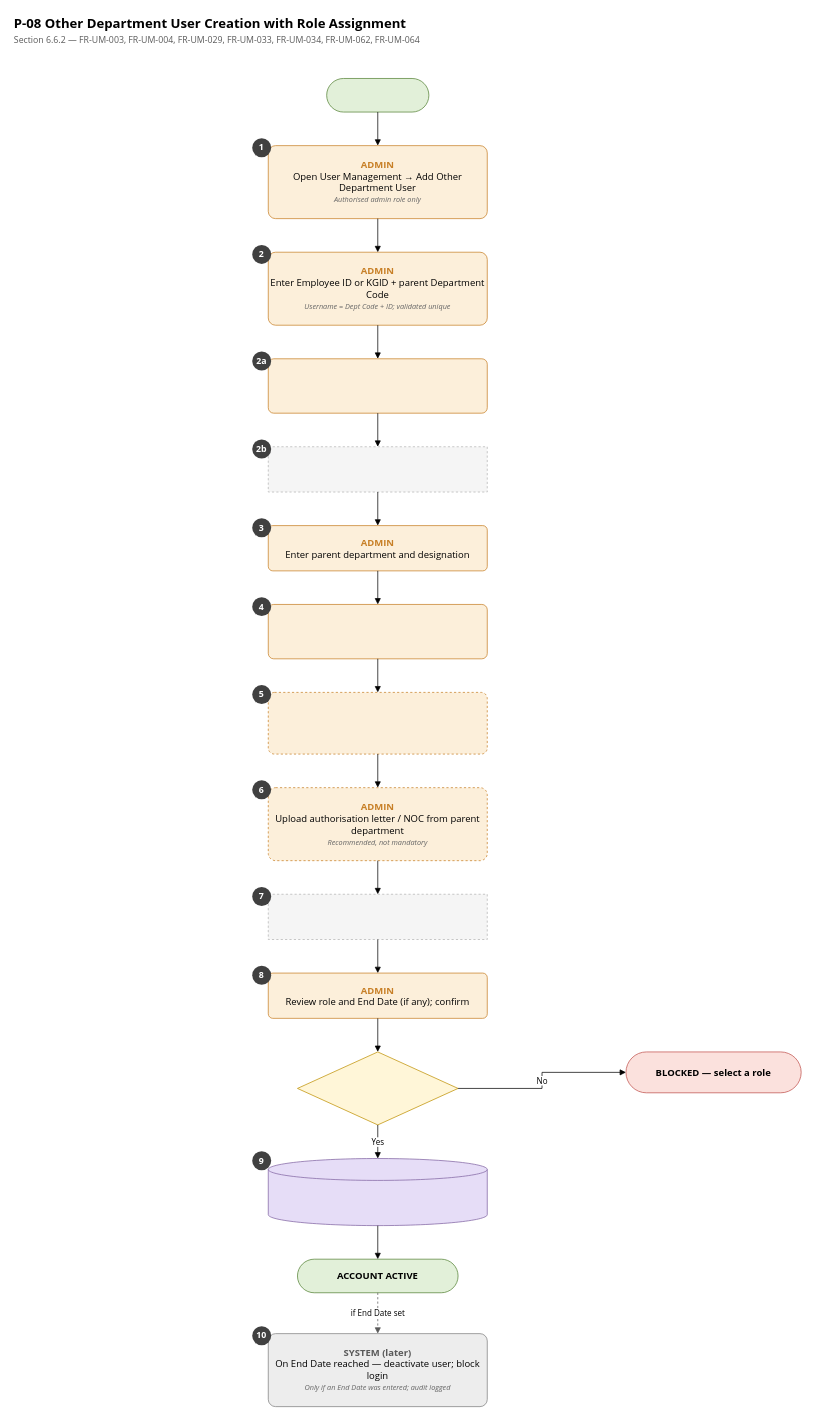
The diagram is 828 pixels wide and 1419 high, and some of its shapes have lost their labels. The box of each missing label's shape, as (x1, y1, x2, y2) in pixels:
ADMIN Assign exactly one role (Role Category = Other Department): (268, 604, 487, 659)
ADMIN Enter remaining particulars incl. official email of parent department: (268, 358, 487, 413)
ADMIN Optionally enter Account End Date Not mandatory: (268, 692, 487, 754)
Biometrics — NOT required for this category: (268, 894, 487, 940)
No security questions captured for this category: (268, 446, 487, 492)
Role selected?: (297, 1051, 458, 1125)
START: (326, 78, 429, 112)
SYSTEM Save — account active with module access for the assigned role: (268, 1158, 487, 1226)
